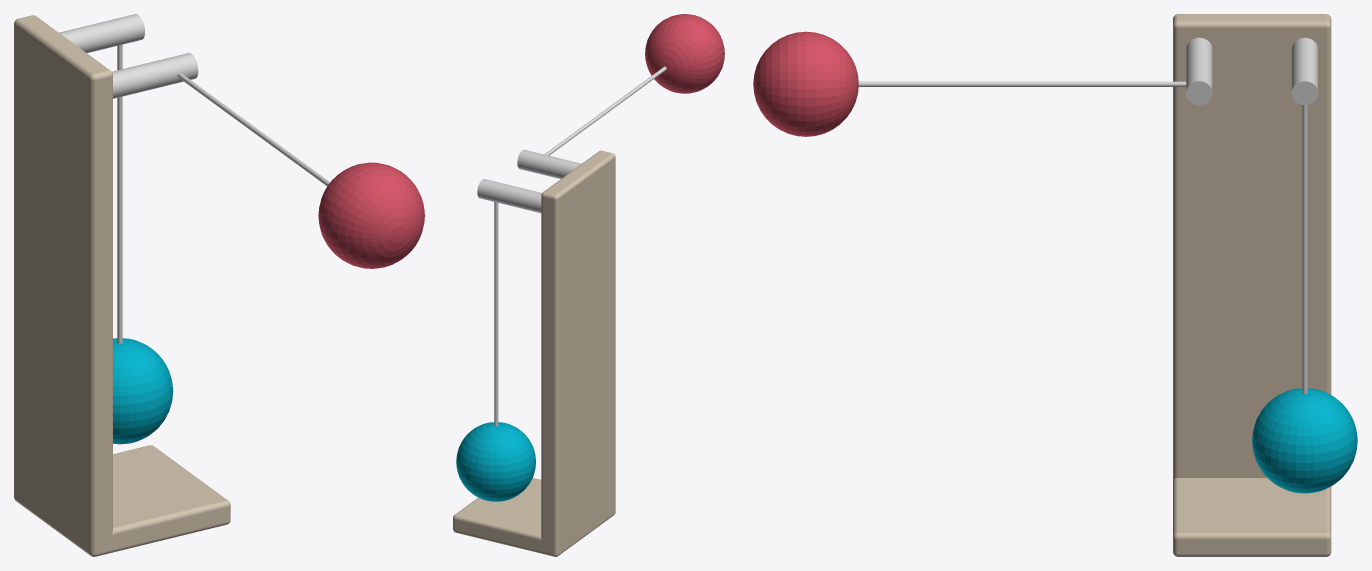
The model's file is Nweton_3rd_law.glb.
The picture shows the model from 3 angles, left to right: view 1: azimuth 30°, elevation 25°; view 2: azimuth 150°, elevation 25°; view 3: azimuth 270°, elevation 25°; orthographic projection. The views are drawn at different scales.
Visible parts, largest first — view 1: Mesh_Mesh_head_geo.001_lambert2SG.002; view 2: Mesh_Mesh_head_geo.001_lambert2SG.002; view 3: Mesh_Mesh_head_geo.001_lambert2SG.002.
Boxes of the visible parts, bbox=[...] form: Mesh_Mesh_head_geo.001_lambert2SG.002: bbox=[14, 14, 424, 556]; Mesh_Mesh_head_geo.001_lambert2SG.002: bbox=[453, 14, 724, 556]; Mesh_Mesh_head_geo.001_lambert2SG.002: bbox=[753, 14, 1357, 556].
Size of the model in its own units: 0.1906 by 0.6531 by 0.7156.
